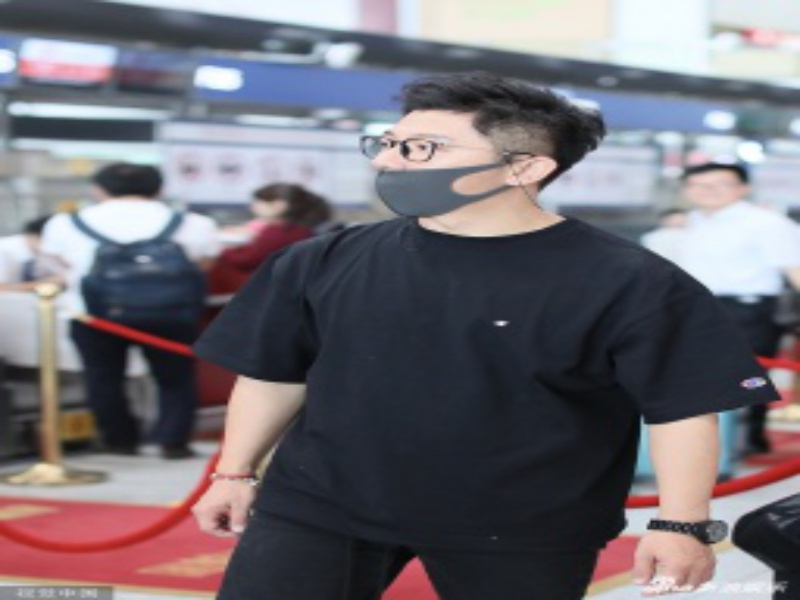ManaoArotava: (343, 68, 555, 233)
